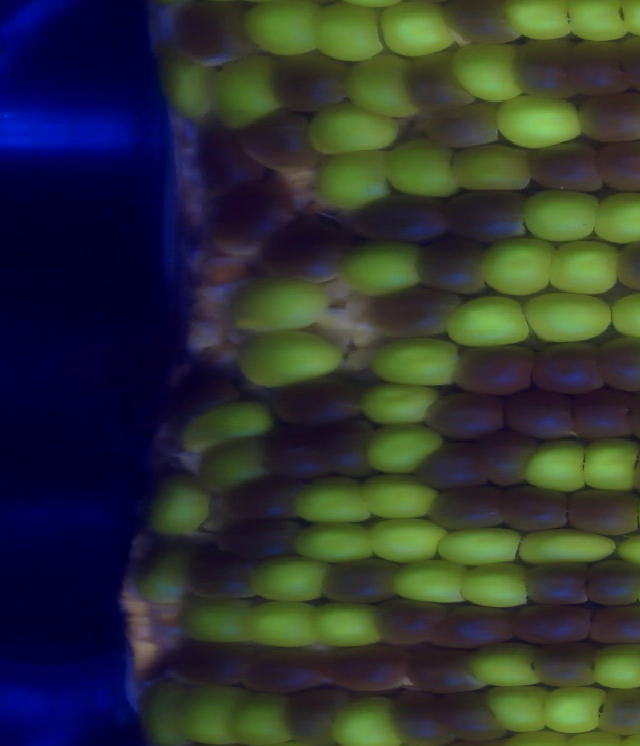fluorescent: (230, 325, 352, 390), (168, 394, 288, 457), (221, 274, 333, 340), (146, 36, 222, 129), (442, 133, 540, 199), (338, 50, 424, 125), (203, 48, 281, 130), (516, 288, 620, 349), (364, 334, 468, 394), (334, 236, 431, 300), (440, 291, 536, 355), (310, 144, 397, 214), (492, 90, 588, 153), (301, 96, 400, 157), (355, 417, 452, 479), (349, 467, 449, 527), (236, 1, 330, 63), (370, 1, 464, 62), (475, 231, 558, 300), (188, 433, 277, 497), (360, 510, 454, 570), (540, 235, 625, 301), (383, 133, 463, 203), (286, 471, 379, 530), (306, 1, 389, 67), (446, 36, 524, 106), (510, 520, 623, 568), (242, 551, 335, 607), (520, 183, 605, 244), (514, 432, 592, 497), (287, 514, 384, 566), (145, 467, 216, 538), (167, 679, 241, 746), (239, 593, 322, 652), (356, 379, 446, 433), (173, 595, 260, 650), (130, 676, 198, 746), (432, 522, 528, 571), (325, 689, 407, 746), (384, 554, 473, 606), (462, 637, 545, 692), (305, 595, 386, 650), (223, 687, 298, 746), (131, 539, 197, 606), (476, 678, 551, 735), (459, 558, 534, 615), (493, 1, 581, 48), (574, 432, 640, 494), (539, 682, 613, 737), (556, 1, 632, 48), (587, 637, 640, 696), (588, 187, 640, 247), (600, 289, 640, 344), (608, 527, 640, 578)
nonfluorescent: (251, 212, 358, 288), (435, 183, 541, 249), (202, 187, 302, 256), (312, 636, 418, 700), (189, 118, 273, 197), (169, 1, 258, 75), (235, 108, 325, 181), (413, 385, 515, 447), (264, 48, 355, 117), (360, 285, 464, 344), (351, 188, 458, 245), (266, 373, 371, 430), (408, 231, 492, 302), (520, 337, 611, 402), (395, 50, 478, 119), (232, 644, 333, 700), (485, 476, 578, 536), (447, 339, 544, 396), (255, 422, 341, 486), (277, 681, 361, 746), (508, 33, 585, 101), (163, 635, 258, 690), (499, 383, 583, 445), (403, 440, 497, 495), (415, 482, 509, 537), (559, 34, 636, 101), (556, 482, 640, 543), (397, 638, 484, 696), (429, 686, 516, 744), (559, 386, 640, 448), (313, 415, 386, 483), (525, 639, 608, 697), (428, 601, 524, 651), (382, 683, 458, 746), (506, 598, 598, 650), (520, 139, 605, 195), (415, 97, 504, 150), (313, 555, 401, 608), (363, 594, 451, 646), (166, 368, 249, 423), (179, 547, 259, 604), (212, 475, 306, 523), (440, 1, 529, 51), (212, 515, 307, 561), (469, 420, 536, 485), (573, 88, 640, 148), (517, 557, 591, 609), (583, 134, 640, 197), (578, 554, 640, 610), (590, 680, 640, 740), (593, 329, 640, 392), (584, 598, 640, 649), (609, 230, 640, 299)
